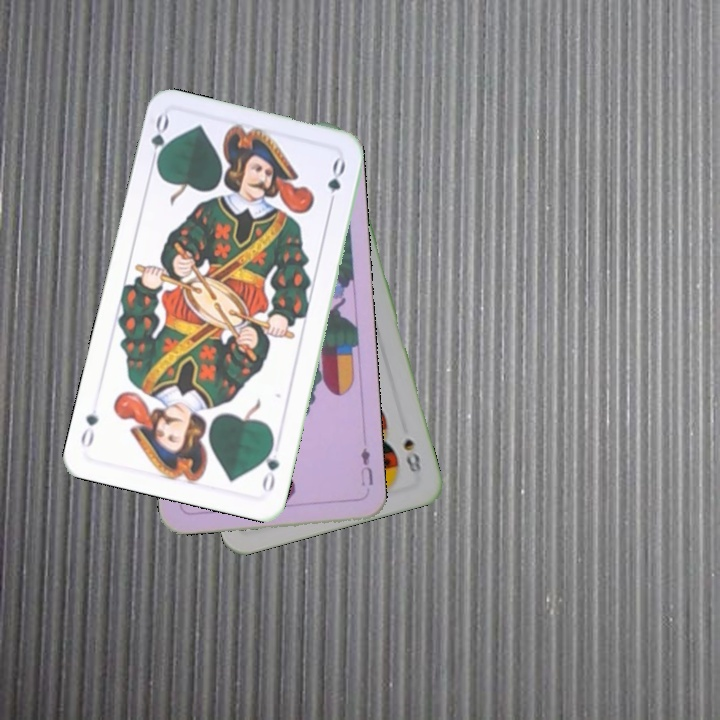EU: (356, 444, 376, 488)
GO: (146, 111, 173, 171), (258, 436, 282, 495)
S8: (399, 435, 424, 480)
